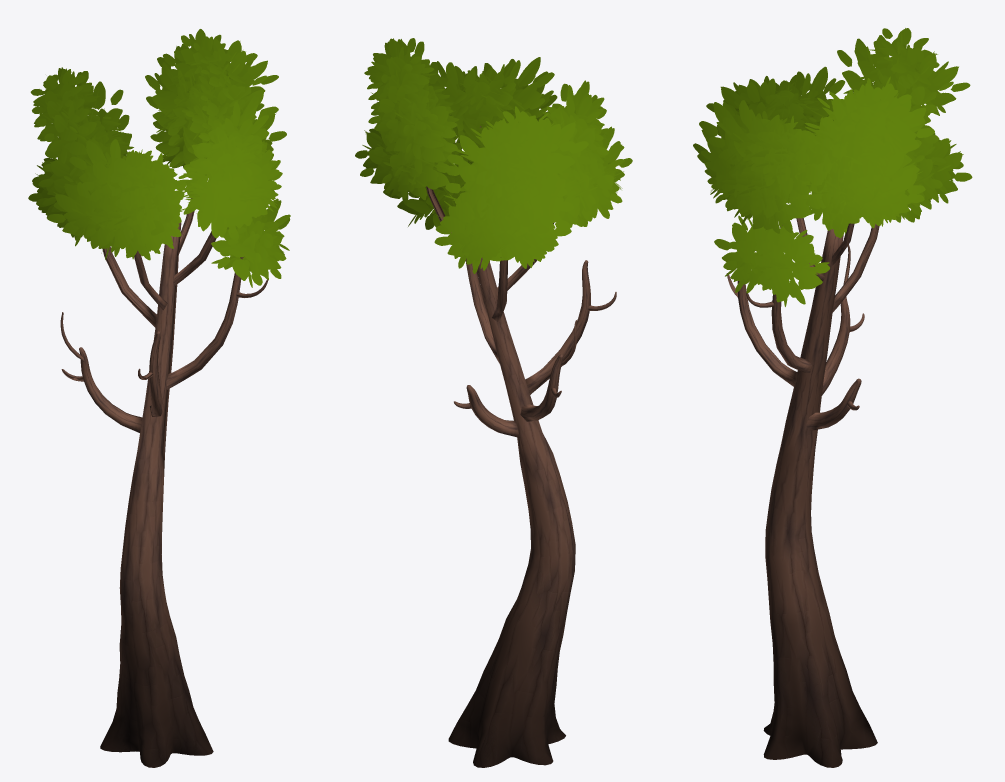
File: CommonTree_4.gltf
3 renders of one model, left to right at view 1: azimuth 30°, elevation 25°; view 2: azimuth 150°, elevation 25°; view 3: azimuth 270°, elevation 25°, orthographic. The views are drawn at different scales.
Visible parts, largest first — view 1: CommonTree_4; view 2: CommonTree_4; view 3: CommonTree_4.
Part boxes in pixels (x1,y1,x2,y2): CommonTree_4: (28,29,290,767); CommonTree_4: (355,38,632,767); CommonTree_4: (693,28,972,767).
Size of the model in its own units: 3.83 by 9.44 by 3.76.
Materials: 2 (2 with a texture image).
